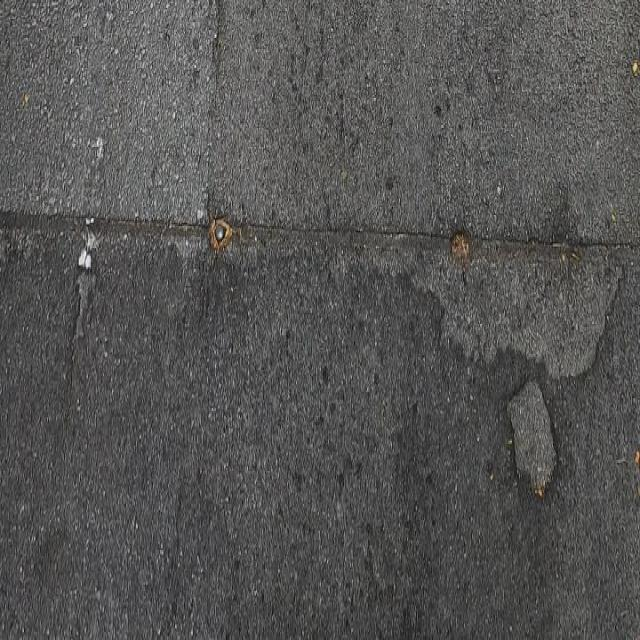cracks: (0, 180, 640, 314)
potholes: (440, 246, 618, 368), (487, 362, 582, 531)
